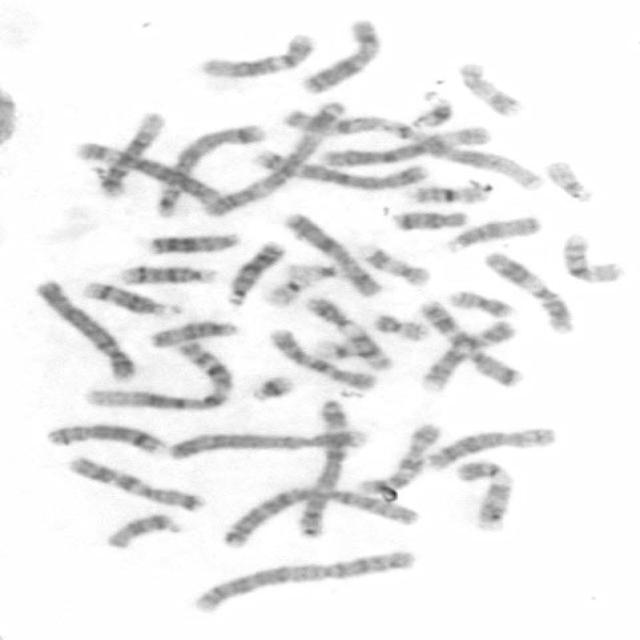A1: (268, 102, 548, 193), (77, 335, 238, 411)
A2: (187, 545, 420, 615), (217, 481, 420, 550)
A3: (197, 98, 353, 217), (292, 394, 352, 540)
B4: (29, 275, 140, 383), (164, 425, 370, 463)
B5: (152, 120, 268, 220), (243, 146, 434, 192)
C10: (265, 326, 379, 392), (352, 419, 444, 495)
C11: (479, 248, 577, 336), (298, 292, 394, 372)
C12: (94, 107, 170, 199), (193, 29, 318, 80)
C6: (69, 137, 225, 207), (316, 120, 494, 170)
C7: (416, 296, 524, 392), (62, 452, 208, 513)
C8: (420, 424, 559, 472), (42, 418, 166, 454)
C9: (412, 314, 518, 394), (451, 456, 518, 534)
D13: (222, 237, 288, 308), (142, 228, 242, 257)
D14: (76, 276, 182, 318), (116, 262, 220, 286)
D15: (440, 211, 544, 254), (145, 316, 240, 350)
E16: (556, 229, 624, 284), (407, 182, 491, 205)
E17: (455, 58, 526, 118), (355, 239, 434, 287)
E18: (97, 509, 178, 552), (387, 207, 470, 233)
F19: (264, 268, 320, 305), (311, 334, 362, 362)
F20: (443, 285, 516, 320), (369, 308, 431, 342)
G21: (407, 90, 455, 129), (245, 371, 298, 404)
G22: (540, 157, 595, 204), (281, 260, 346, 282)
X: (278, 207, 385, 298), (294, 15, 383, 96)
